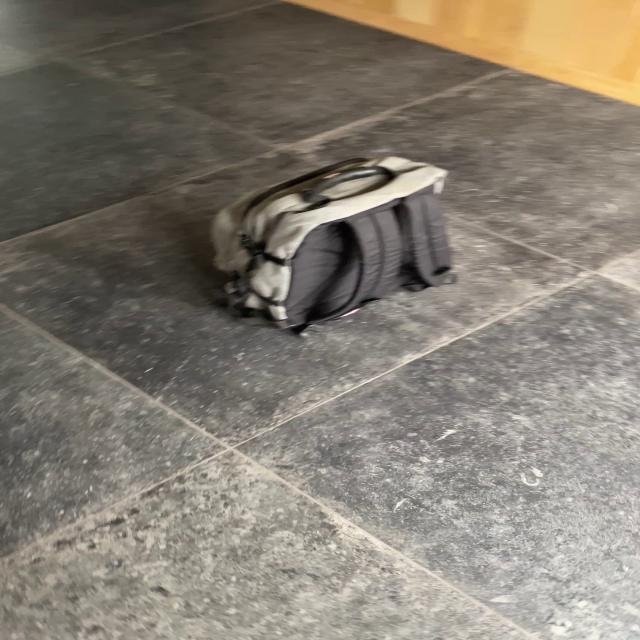backpack: (194, 150, 464, 330)
